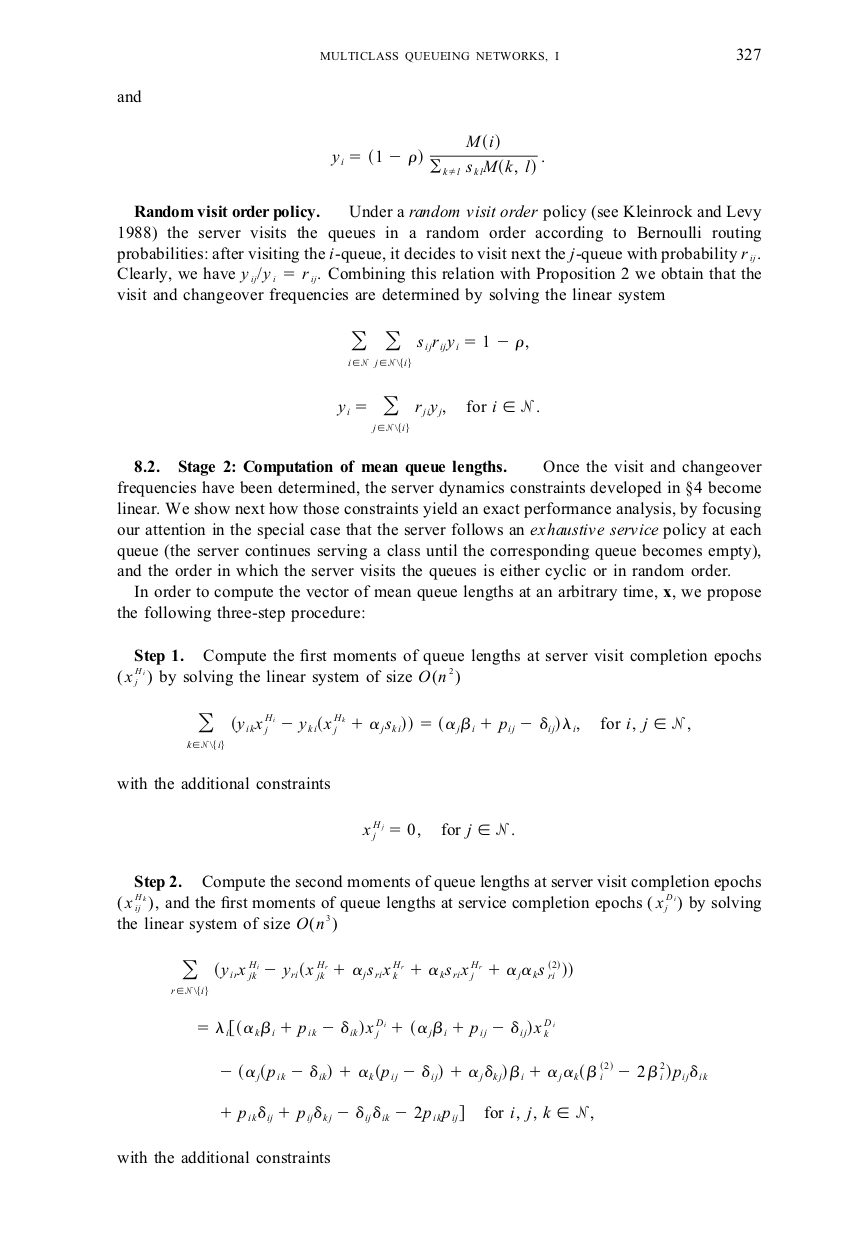formula: (117, 648, 760, 687), (187, 713, 690, 749), (171, 960, 572, 995), (221, 1060, 707, 1082), (330, 133, 543, 175), (198, 1018, 554, 1039), (336, 396, 538, 432), (221, 1104, 593, 1123), (348, 331, 528, 367), (362, 820, 513, 841)
